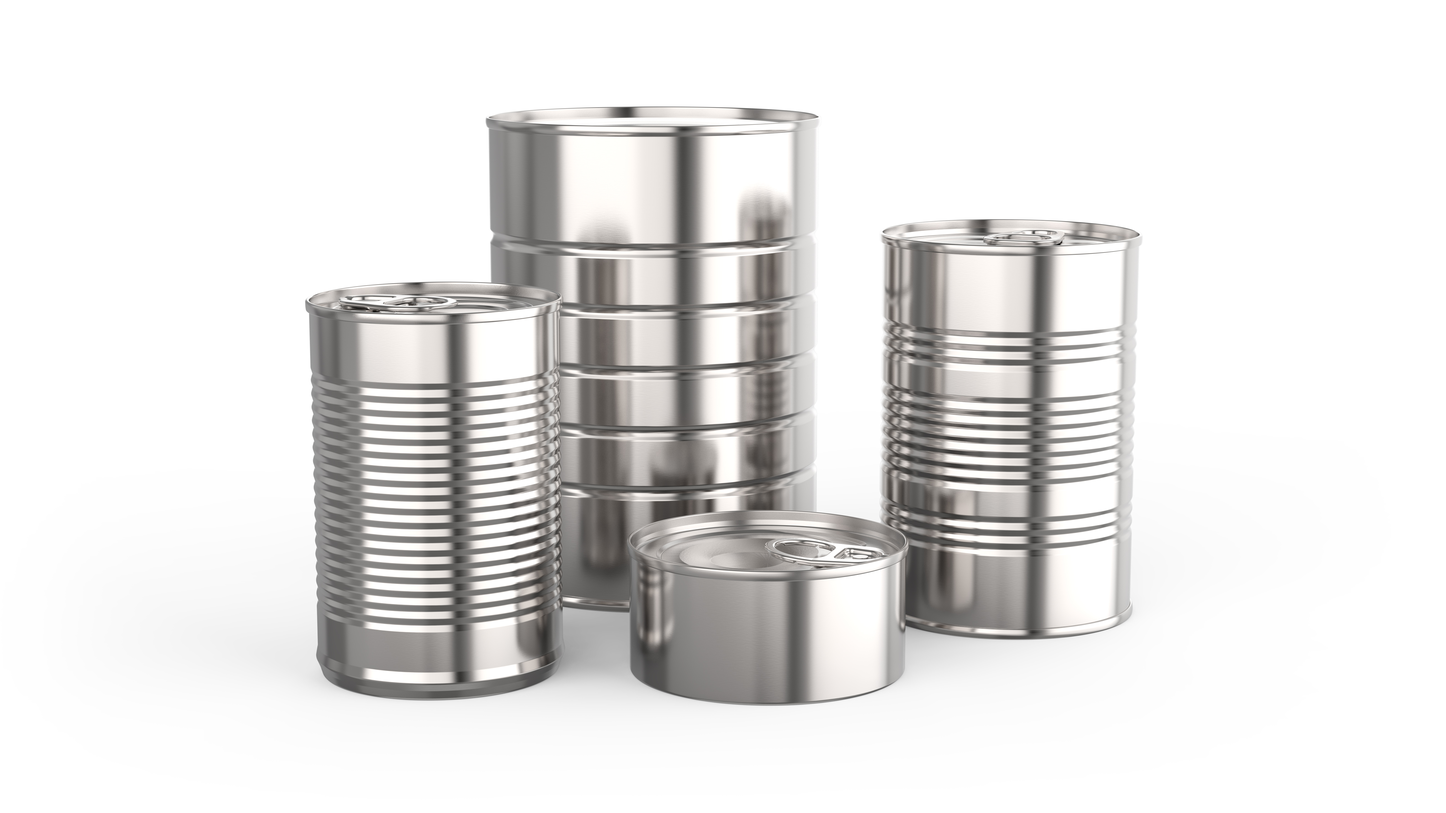cylinder: (487, 107, 820, 614), (881, 219, 1142, 640), (306, 282, 563, 700), (627, 510, 908, 706)
